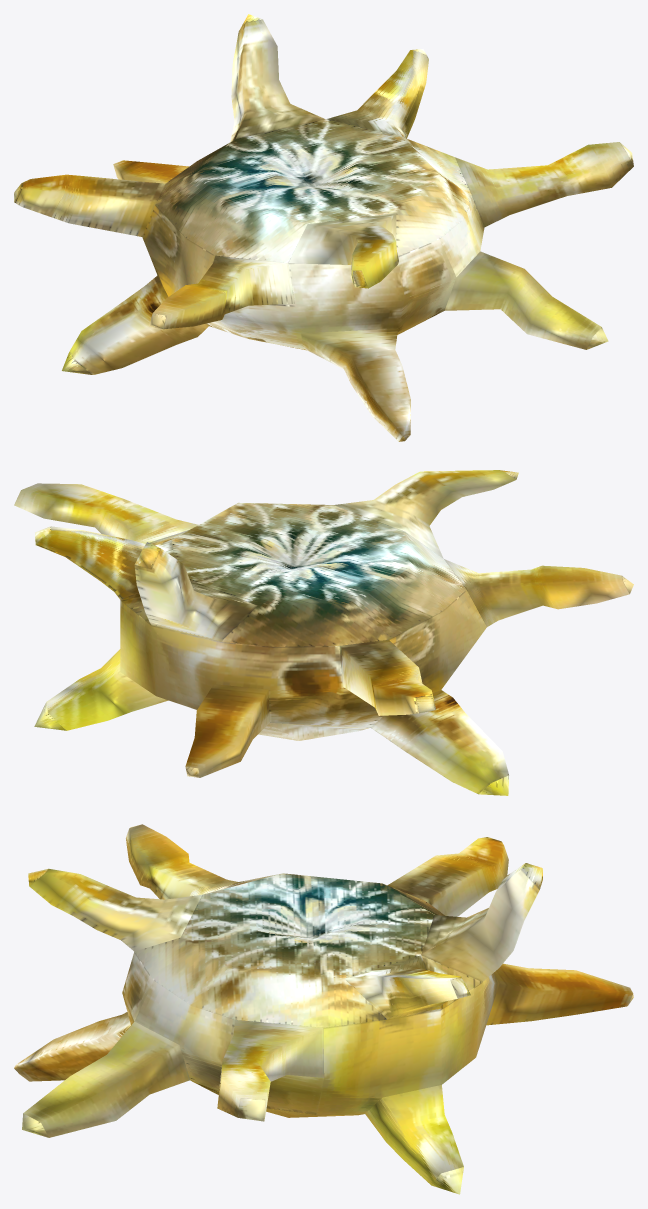
File: lordakium.glb
3 renders of one model, top to bottom at view 1: azimuth 30°, elevation 25°; view 2: azimuth 150°, elevation 25°; view 3: azimuth 270°, elevation 25°, orthographic. The views are drawn at different scales.
Visible parts, largest first — view 1: lordakium-solar_full_stack001; view 2: lordakium-solar_full_stack001; view 3: lordakium-solar_full_stack001.
Boxes of the visible parts, x1,y1,x2,y2 form: lordakium-solar_full_stack001: (14,14,633,441); lordakium-solar_full_stack001: (14,470,633,795); lordakium-solar_full_stack001: (14,824,633,1194).
Size of the model in its own units: 286 by 121 by 263.
1 material, 1 textured.
